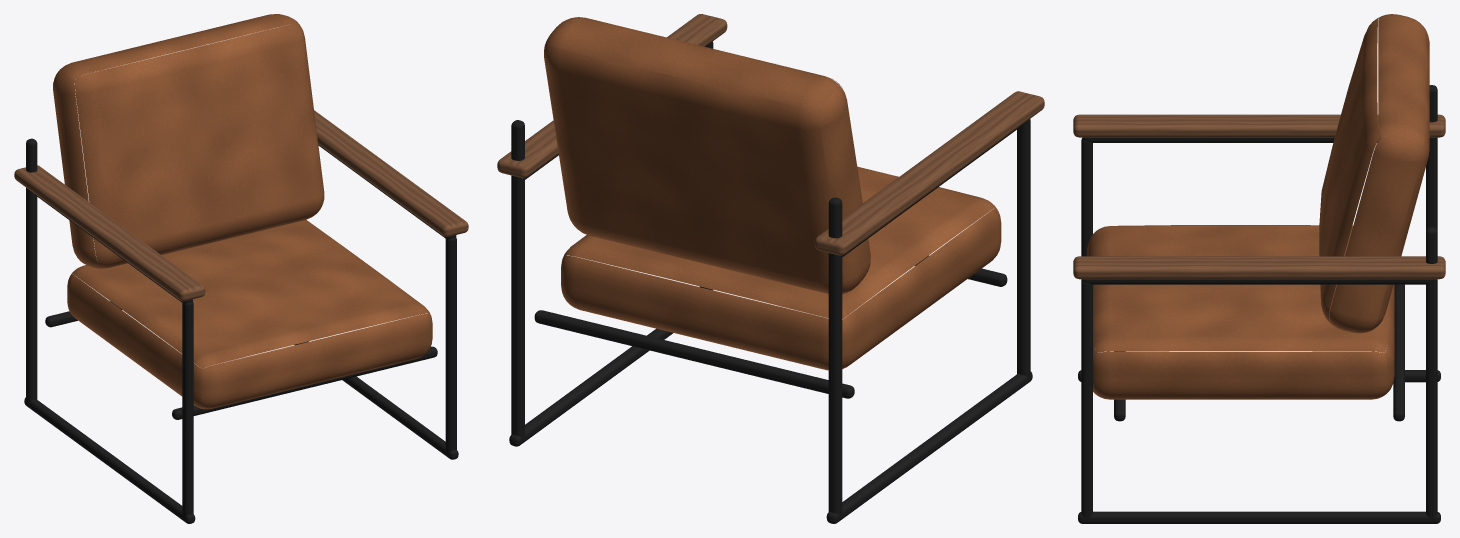
The model's file is armchair_loft.glb.
3 renders of one model, left to right at view 1: azimuth 30°, elevation 25°; view 2: azimuth 150°, elevation 25°; view 3: azimuth 270°, elevation 25°, orthographic. The views are drawn at different scales.
Visible parts, largest first — view 1: Body; view 2: Body; view 3: Body.
Part boxes in pixels (x1,y1,x2,y2): Body: (14,14,468,523); Body: (497,14,1044,523); Body: (1073,14,1445,523).
Size of what is drawn, in the model's own units: 0.79 by 0.9067 by 0.8.
3 materials, 2 textured.
